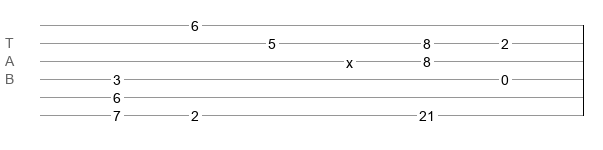0: (501, 72, 509, 82)
2: (191, 108, 199, 118), (501, 36, 509, 46)
21: (419, 108, 435, 118)
3: (113, 72, 121, 82)
5: (268, 36, 276, 46)
6: (113, 90, 121, 100), (191, 18, 199, 28)
7: (113, 108, 121, 118)
8: (423, 36, 431, 46), (423, 54, 431, 64)
x: (346, 55, 353, 63)
